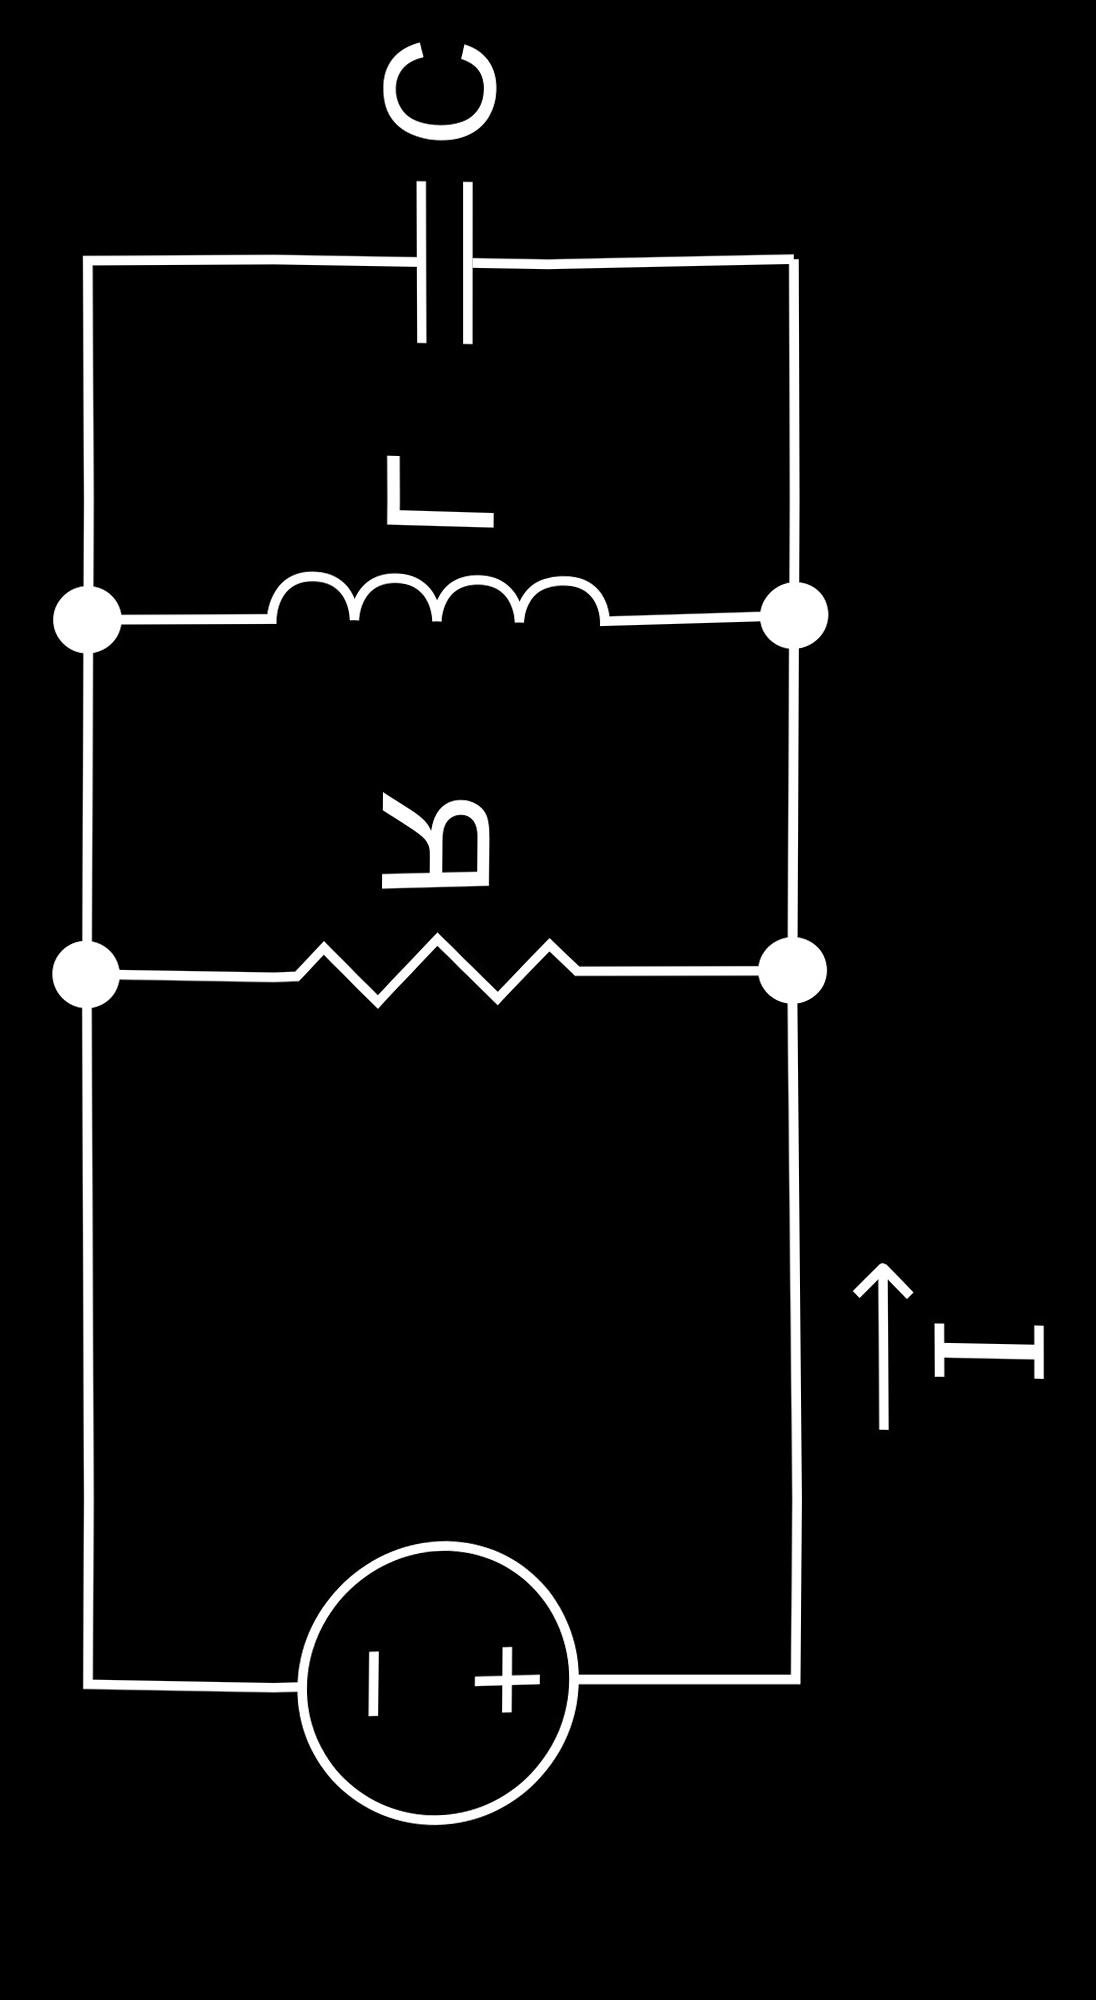Battery: (221, 1489, 628, 1901)
